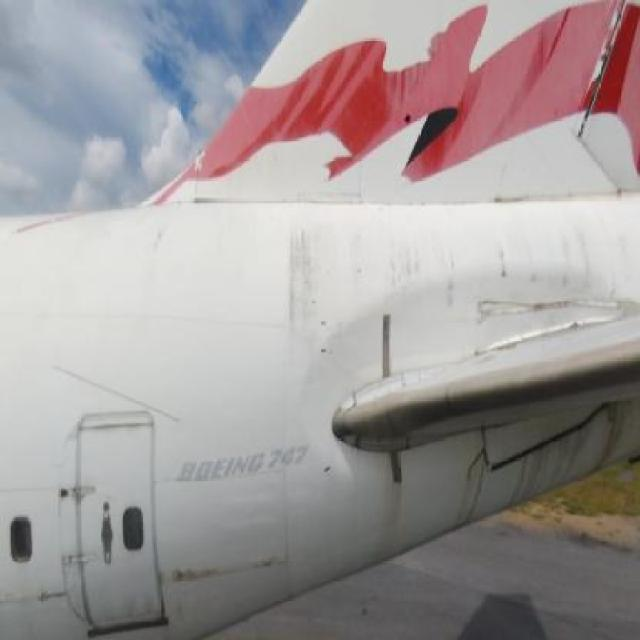Rust: (483, 200, 634, 285), (512, 403, 636, 497), (281, 212, 356, 353), (376, 219, 459, 313), (356, 449, 422, 566), (455, 444, 500, 524), (165, 550, 230, 602), (13, 582, 76, 615), (247, 544, 296, 582)
Scartch: (472, 290, 632, 324)
